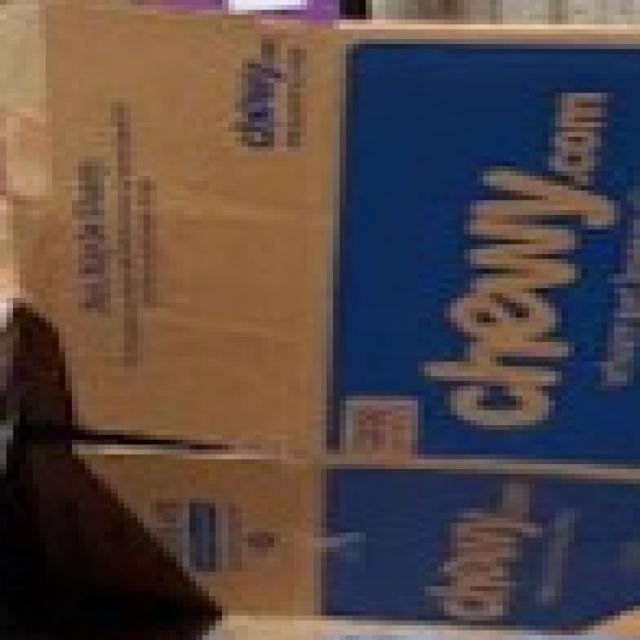cardboard: (6, 0, 639, 624)
